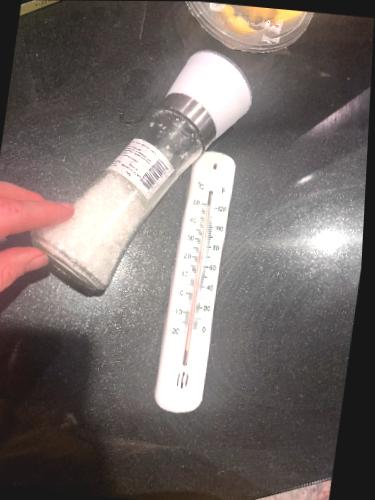thermo: (152, 156, 242, 413)
